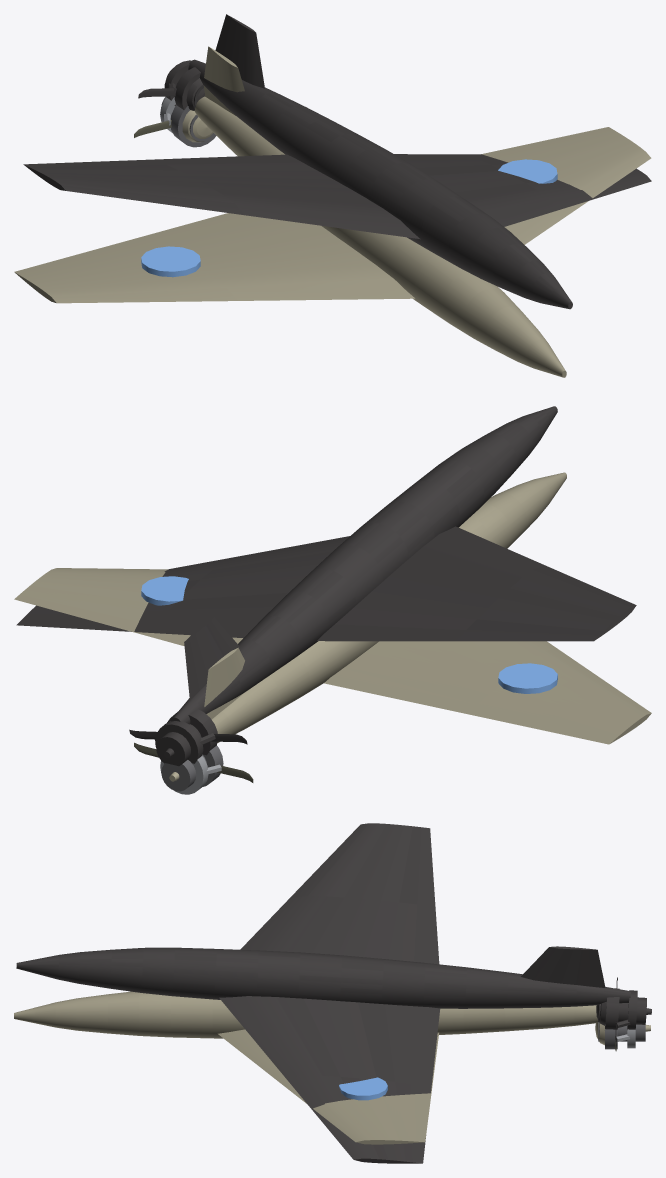
File: loiterer__arash.glb
3 renders of one model, top to bottom at view 1: azimuth 30°, elevation 25°; view 2: azimuth 150°, elevation 25°; view 3: azimuth 270°, elevation 25°, orthographic. The views are drawn at different scales.
Parts seen in each view (by area): view 1: Wreck, Fuselage_Mesh, Propeller_Mesh; view 2: Wreck, Fuselage_Mesh, Propeller_Mesh; view 3: Wreck, Fuselage_Mesh, Propeller_Mesh.
Part boxes in pixels (left/top/right/bottom): Wreck: left=23, top=14, right=651, bottom=309; Fuselage_Mesh: left=14, top=46, right=651, bottom=377; Propeller_Mesh: left=134, top=96, right=216, bottom=147; Wreck: left=16, top=406, right=636, bottom=766; Fuselage_Mesh: left=14, top=472, right=651, bottom=744; Propeller_Mesh: left=134, top=742, right=253, bottom=794; Wreck: left=16, top=823, right=651, bottom=1163; Fuselage_Mesh: left=14, top=991, right=598, bottom=1144; Propeller_Mesh: left=595, top=1022, right=650, bottom=1051.
Size of what is drawn, in the model's own units: 4 by 0.8831 by 4.58.
